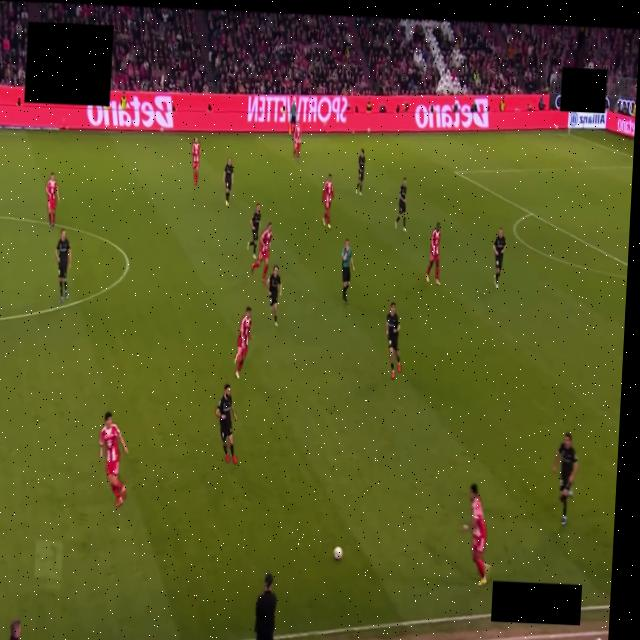ball: (333, 547, 342, 560)
player: (99, 412, 127, 506), (553, 433, 577, 525), (470, 484, 490, 586), (215, 384, 236, 464), (251, 222, 271, 281), (234, 308, 250, 378), (55, 230, 70, 302), (386, 302, 400, 378), (425, 223, 439, 285), (267, 266, 281, 326), (492, 229, 506, 288), (247, 204, 260, 259), (46, 173, 58, 227), (394, 178, 406, 231), (322, 174, 333, 229), (223, 158, 233, 206), (356, 149, 365, 195), (192, 138, 200, 184), (292, 124, 301, 160)
referee: (341, 239, 354, 303)
